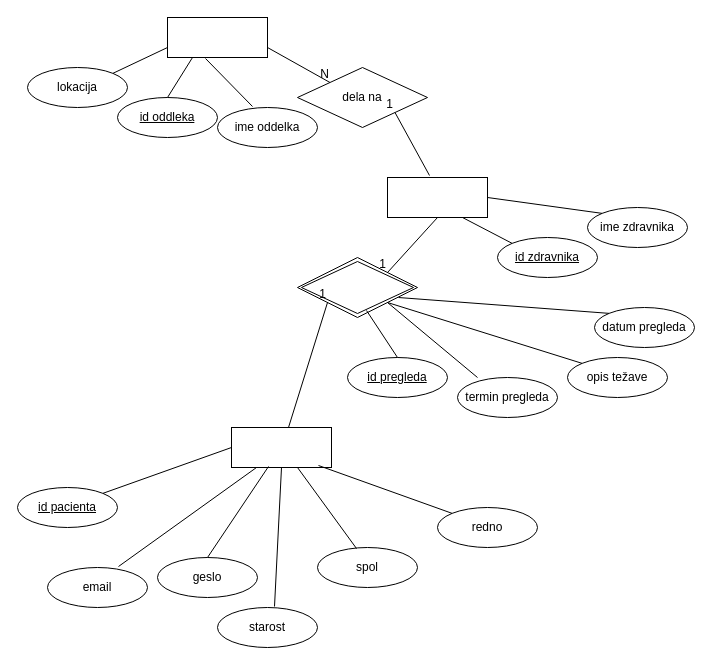
Some shapes in this 712 by 665 pixel diagram are drawn without their labels. The shapes that lost their labels are listed below. From the top down, each one's box as (x1, y1, x2, y2) in pixels, then its label:
(166, 16, 268, 58): oddelek
(386, 176, 488, 218): zdravnik
(296, 256, 418, 318): ima pregled
(230, 426, 332, 468): pacient
